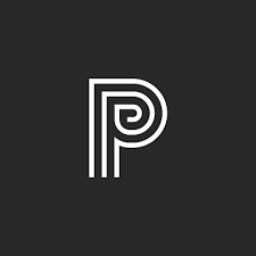p: (84, 72, 170, 184)
